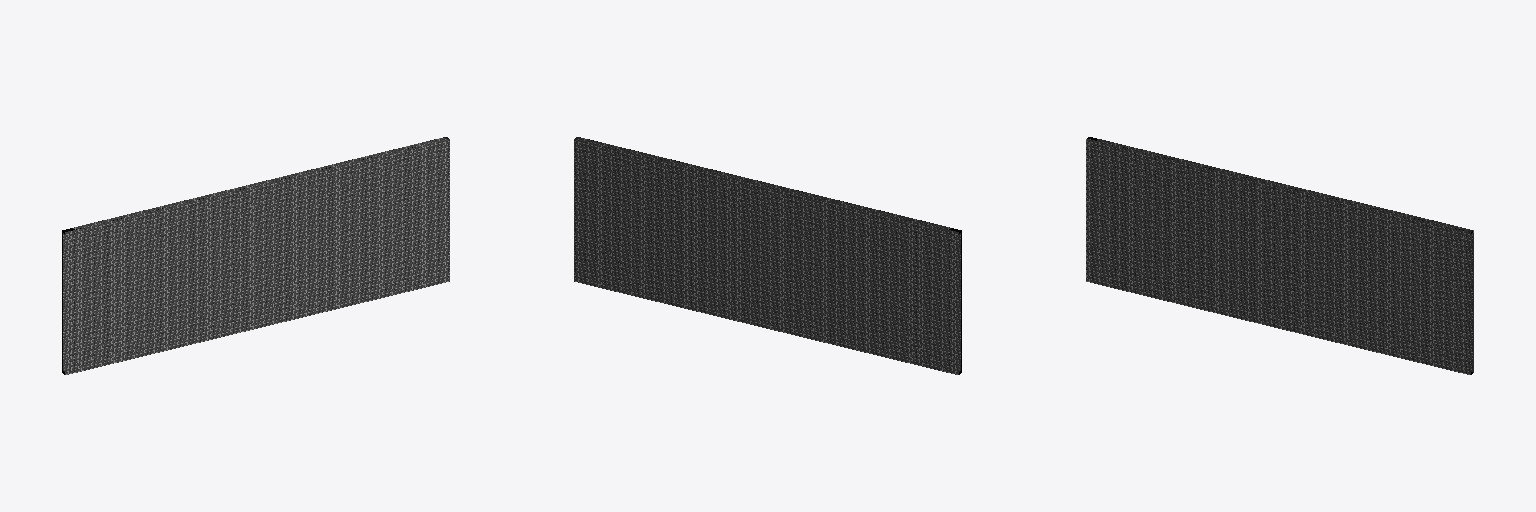
The picture shows the model from 3 angles: view 1: azimuth 30°, elevation 25°; view 2: azimuth 150°, elevation 25°; view 3: azimuth 330°, elevation 25°; orthographic projection.
Parts seen in each view (by area): view 1: 立方体; view 2: 立方体; view 3: 立方体.
Part boxes in pixels (x1,y1,x2,y2): 立方体: (62,137,449,374); 立方体: (574,137,961,374); 立方体: (1086,137,1473,374).
Size of the model in its own units: 33.35 by 11.88 by 0.4147.
1 materials, 1 textured.